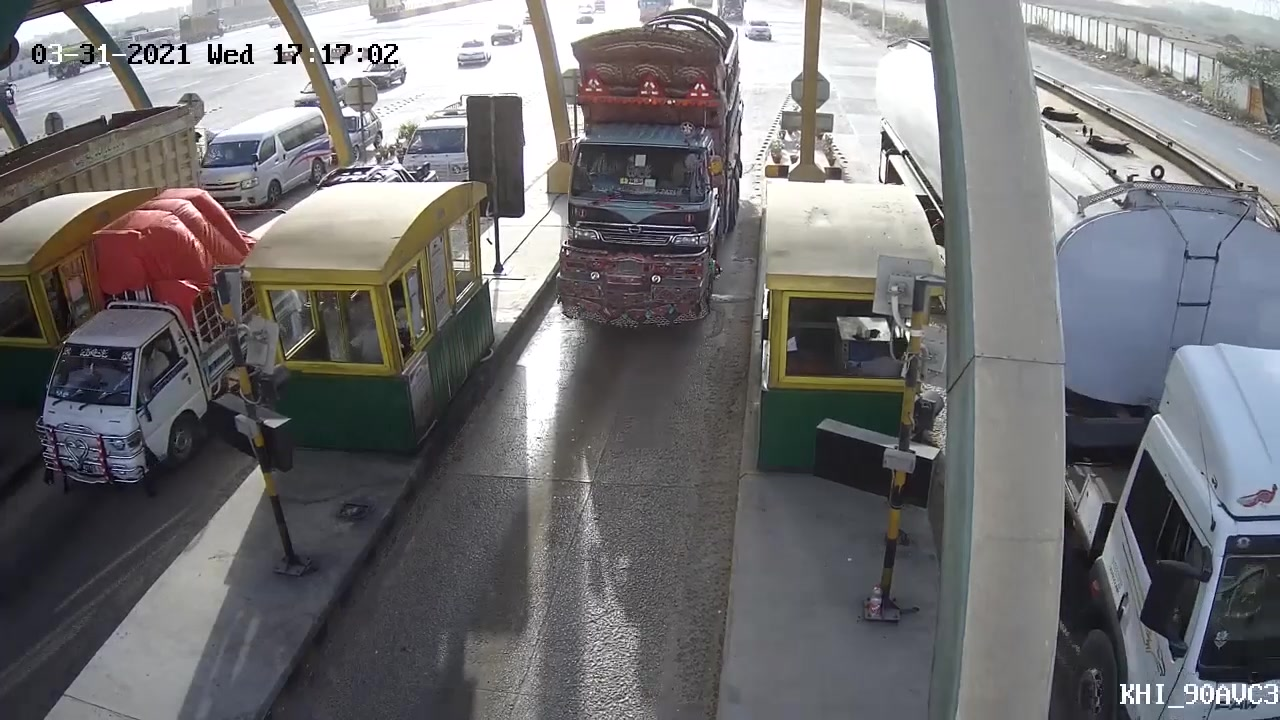F5: (553, 6, 751, 338)
